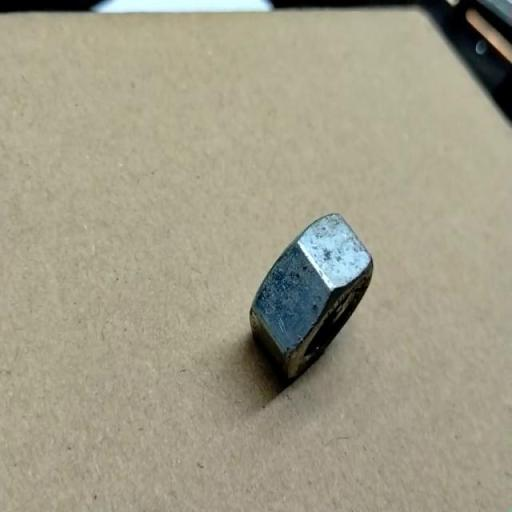Nut: (249, 212, 374, 388)
